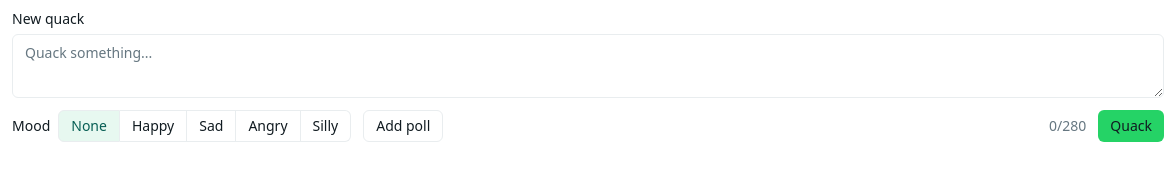
Test: QuackForm › posts the picked mood and resets the picker afterwards
The width and height of the screenshot is (1176, 172).
Click the radio button labelled "happy" at (154, 126), box [120, 110, 187, 142]
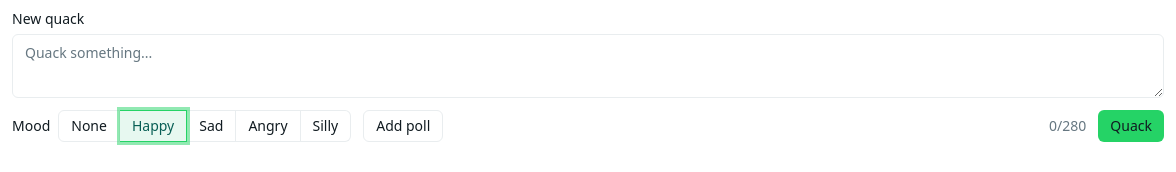
Type "hello" into the text box labelled "New quack" at (588, 66), box [12, 34, 1164, 98]
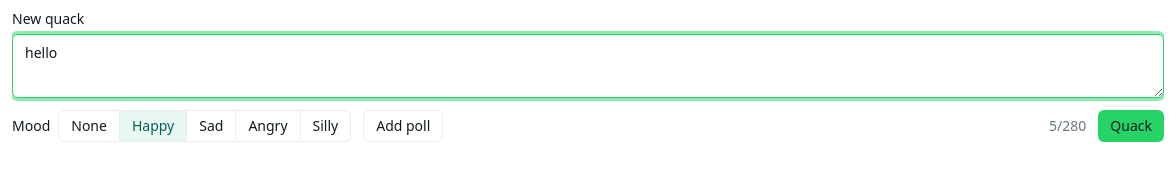
Click the button "Quack" at (1131, 126), box [1098, 110, 1164, 142]
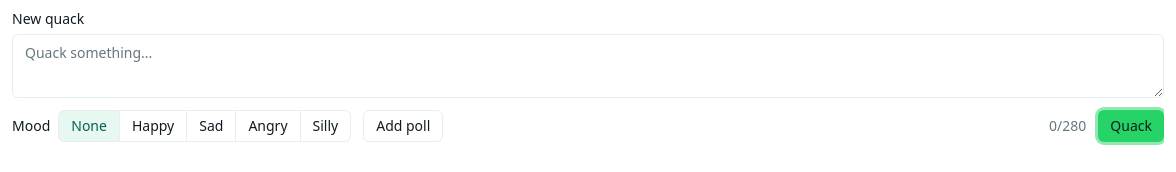
Expected: the radio button labelled "none" is checked, [58, 110, 120, 142]
